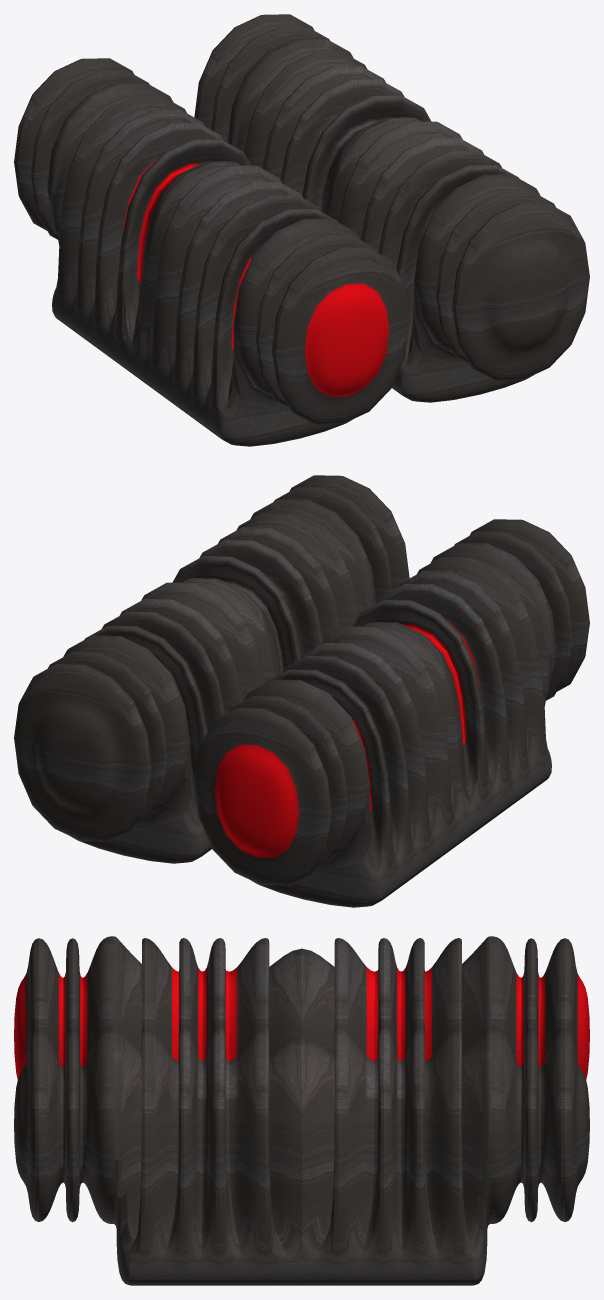
Rendered from EB_SubEngine.fbx.
The picture shows the model from 3 angles, top to bottom: view 1: azimuth 30°, elevation 25°; view 2: azimuth 150°, elevation 25°; view 3: azimuth 270°, elevation 25°; orthographic projection.
Visible parts, largest first — view 1: SubEngine; view 2: SubEngine; view 3: SubEngine.
Boxes of the visible parts, <box> form: SubEngine: <box>14,14,589,446</box>; SubEngine: <box>14,475,589,907</box>; SubEngine: <box>14,936,589,1285</box>.
Size of the model in its own units: 126 by 81.37 by 186.
